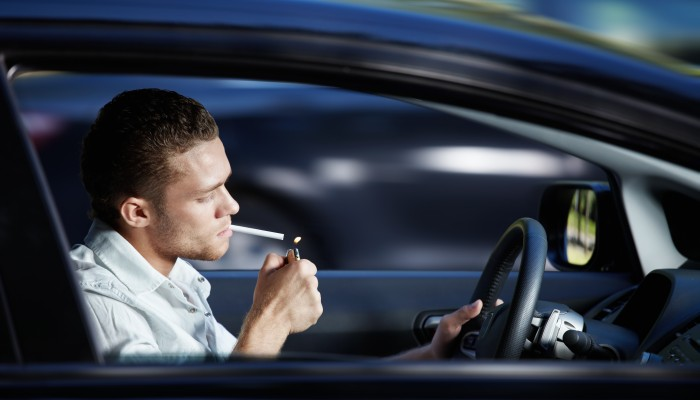cigarette: (219, 214, 313, 253)
